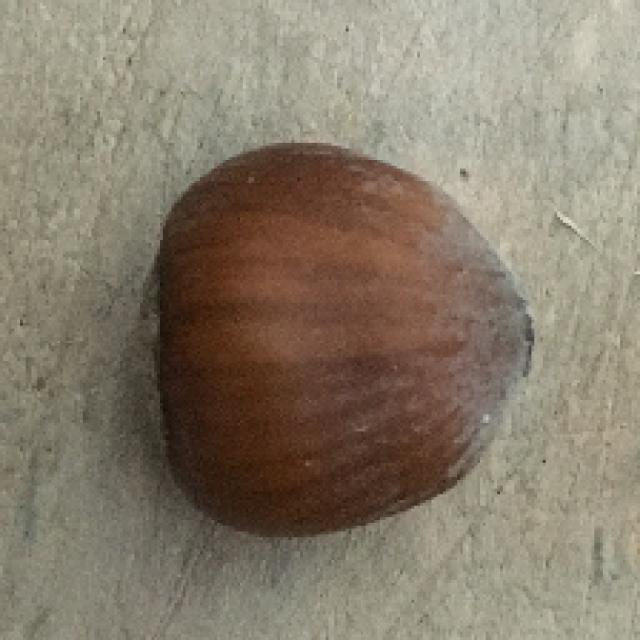qualityHazelnut: (125, 148, 532, 532)
